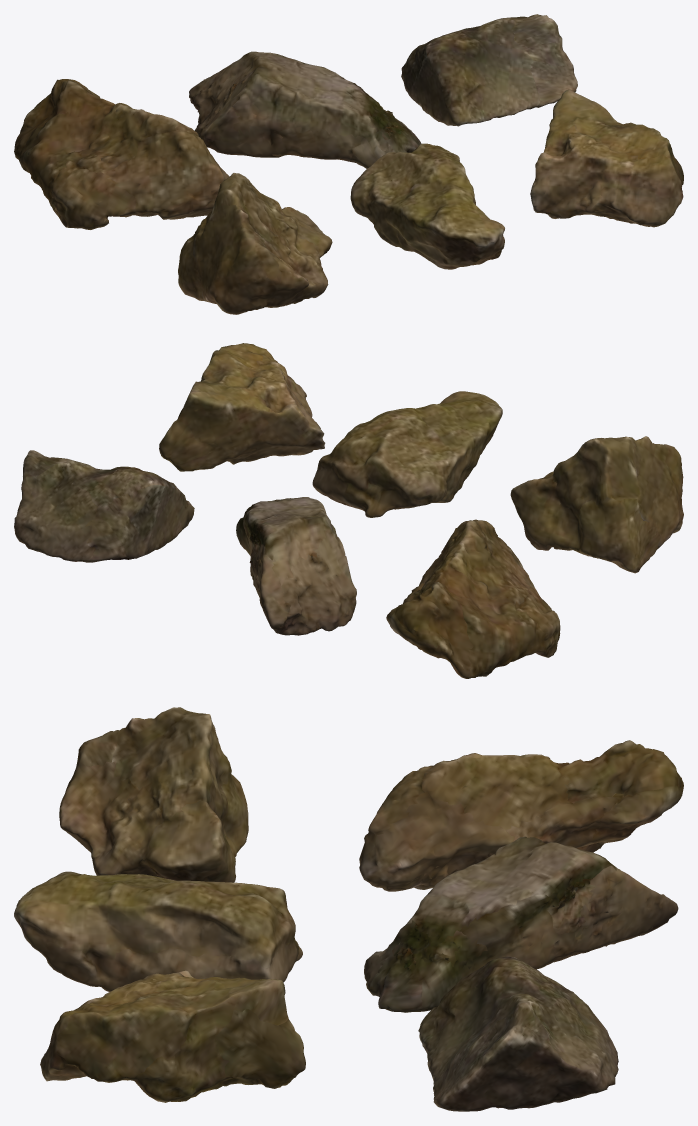
The model's file is rock_moss_set_01.glb.
3 renders of one model, top to bottom at view 1: azimuth 30°, elevation 25°; view 2: azimuth 150°, elevation 25°; view 3: azimuth 270°, elevation 25°, orthographic. The views are drawn at different scales.
Visible parts, largest first — view 1: rock_moss_set_01_rock01, rock_moss_set_01_rock02, rock_moss_set_01_rock06, rock_moss_set_01_rock04, rock_moss_set_01_rock03, rock_moss_set_01_rock05; view 2: rock_moss_set_01_rock04, rock_moss_set_01_rock01, rock_moss_set_01_rock05, rock_moss_set_01_rock03, rock_moss_set_01_rock06, rock_moss_set_01_rock02; view 3: rock_moss_set_01_rock01, rock_moss_set_01_rock02, rock_moss_set_01_rock05, rock_moss_set_01_rock04, rock_moss_set_01_rock06, rock_moss_set_01_rock03.
Boxes of the visible parts, left/top/right/bottom form: rock_moss_set_01_rock01: left=14, top=79, right=229, bottom=229; rock_moss_set_01_rock02: left=189, top=51, right=421, bottom=168; rock_moss_set_01_rock06: left=530, top=89, right=683, bottom=227; rock_moss_set_01_rock04: left=178, top=173, right=332, bottom=314; rock_moss_set_01_rock03: left=401, top=14, right=577, bottom=126; rock_moss_set_01_rock05: left=350, top=143, right=504, bottom=269; rock_moss_set_01_rock04: left=510, top=436, right=683, bottom=573; rock_moss_set_01_rock01: left=386, top=519, right=560, bottom=678; rock_moss_set_01_rock05: left=312, top=391, right=502, bottom=517; rock_moss_set_01_rock03: left=14, top=450, right=194, bottom=562; rock_moss_set_01_rock06: left=159, top=343, right=325, bottom=471; rock_moss_set_01_rock02: left=236, top=497, right=356, bottom=635; rock_moss_set_01_rock01: left=359, top=740, right=683, bottom=891; rock_moss_set_01_rock02: left=364, top=836, right=678, bottom=1012; rock_moss_set_01_rock05: left=14, top=871, right=302, bottom=991; rock_moss_set_01_rock04: left=59, top=707, right=248, bottom=882; rock_moss_set_01_rock06: left=40, top=970, right=305, bottom=1102; rock_moss_set_01_rock03: left=418, top=956, right=618, bottom=1111.
Size of the model in its own units: 8 by 1.77 by 6.95.
1 material, 1 textured.
